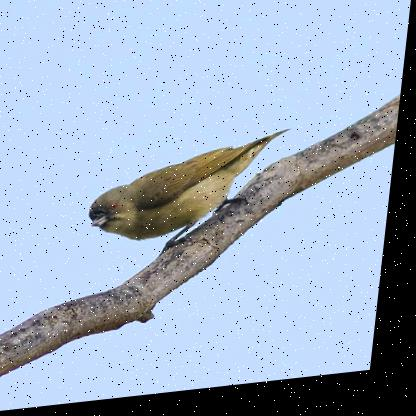Burung: (85, 139, 282, 264)
